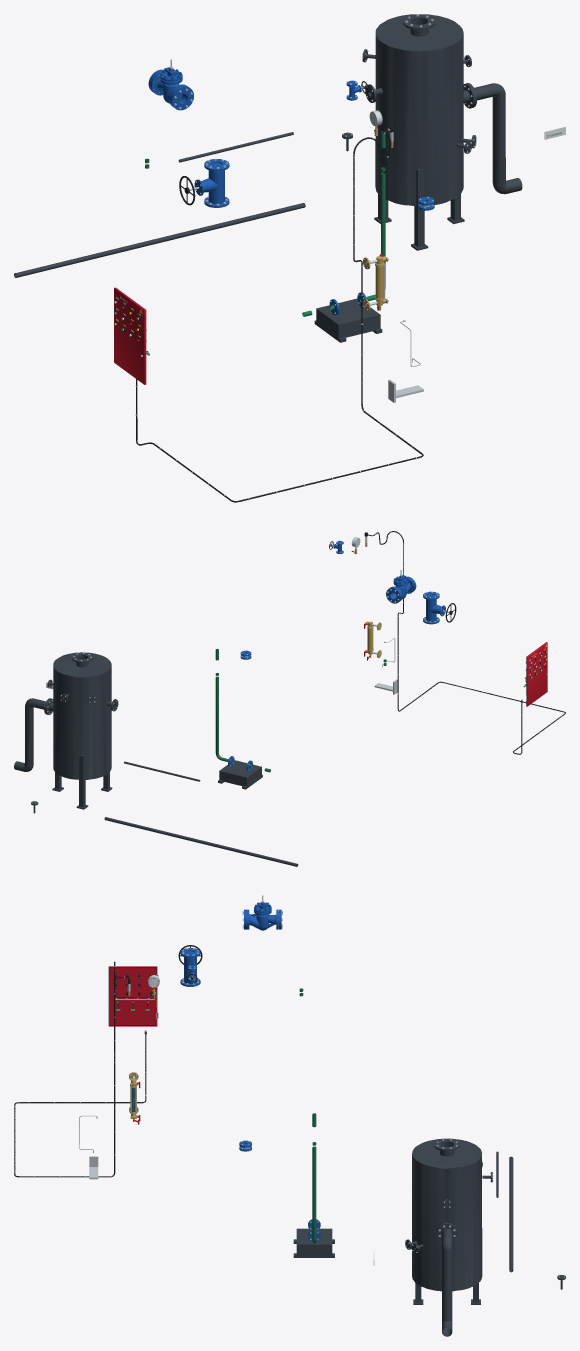
Rendered from s4000-3-ivLDisGM.glb.
3 views of the same model, one above another, from view 1: azimuth 30°, elevation 25°; view 2: azimuth 150°, elevation 25°; view 3: azimuth 270°, elevation 25° (orthographic). The views are drawn at different scales.
Parts seen in each view (by area): view 1: separator_bdv60_5 / dark, cabinet_door / cabinet_door_5.npz, bdv_water_drain / dark, pump_branch_2 / dark, bottom_discharge / dark, wiring_pressure_transmitter / black, steam_manual / blue, gpz CAD solid 0, sight_glasses_1 / sight_glasses_1_0.npz, pump_branch_2 / green; view 2: separator_bdv60_5 / dark, cabinet_door / cabinet_door_5.npz, bdv_water_drain / dark, pump_branch_2 / dark, wiring_pressure_transmitter / black, bottom_discharge / dark, steam_manual / blue, pump_branch_2 / green; view 3: separator_bdv60_5 / dark, cabinet_door / cabinet_door_5.npz, bdv_water_drain / dark, wiring_pressure_transmitter / black, pump_branch_2 / dark, gpz CAD solid 0, bottom_discharge / dark, pump_branch_2 / green.
Part boxes in pixels (x1,y1,x2,y2): separator_bdv60_5 / dark: (362,14,476,250); cabinet_door / cabinet_door_5.npz: (114,287,146,384); bdv_water_drain / dark: (466,83,522,194); pump_branch_2 / dark: (314,298,382,342); bottom_discharge / dark: (14,203,305,277); wiring_pressure_transmitter / black: (136,129,423,502); steam_manual / blue: (194,159,229,207); gpz CAD solid 0: (150,59,187,106); sight_glasses_1 / sight_glasses_1_0.npz: (363,253,388,311); pump_branch_2 / green: (302,131,385,316); separator_bdv60_5 / dark: (45,652,118,809); cabinet_door / cabinet_door_5.npz: (525,642,547,706); bdv_water_drain / dark: (14,698,50,771); pump_branch_2 / dark: (218,760,262,789); wiring_pressure_transmitter / black: (368,531,565,754); bottom_discharge / dark: (104,817,298,866); steam_manual / blue: (423,591,445,624); pump_branch_2 / green: (215,649,270,772); separator_bdv60_5 / dark: (405,1138,492,1304); cabinet_door / cabinet_door_5.npz: (108,966,158,1026); bdv_water_drain / dark: (437,1223,457,1336); wiring_pressure_transmitter / black: (14,961,146,1177); pump_branch_2 / dark: (293,1228,334,1257); gpz CAD solid 0: (247,895,278,930); bottom_discharge / dark: (509,1156,513,1272); pump_branch_2 / green: (312,1113,316,1243).
Size of the model in its own units: 5.93 by 3.29 by 6.03.
